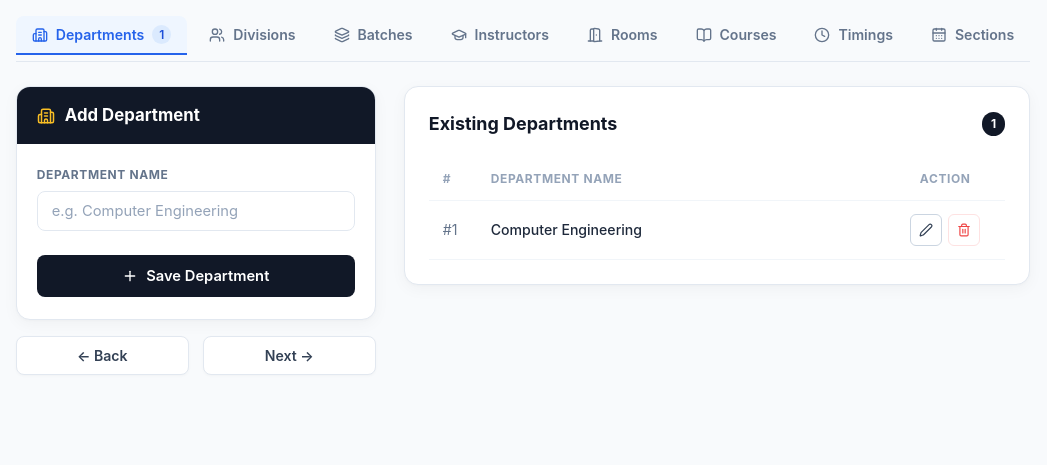
Scenario: DataEntry Component Tests - Layout & Edit Operations › 10. Department: Edit opens, pre-fills existing value, and updates successfully
Expected: the text "Computer Engineering" is shown, [477,200,885,259]
Note: Click Edit button
Click the button named "edit".
click(926, 230)  # box [910,214,942,246]
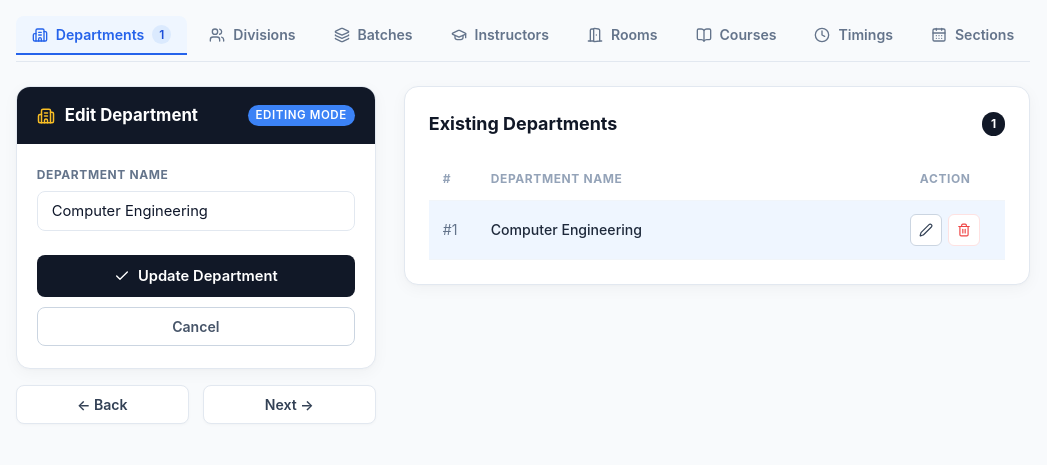
Expected: the heading "Edit Department" is shown, [65,105,198,125]
Expected: the field with placeholder "e.g. Computer Engineering" holds "Computer Engineering"
Note: Change value
Replace the text in the field with placeholder "e.g. Computer Engineering" with "Computer Science & Engineering" at {"x": 196, "y": 211}, box [37,191,355,231]
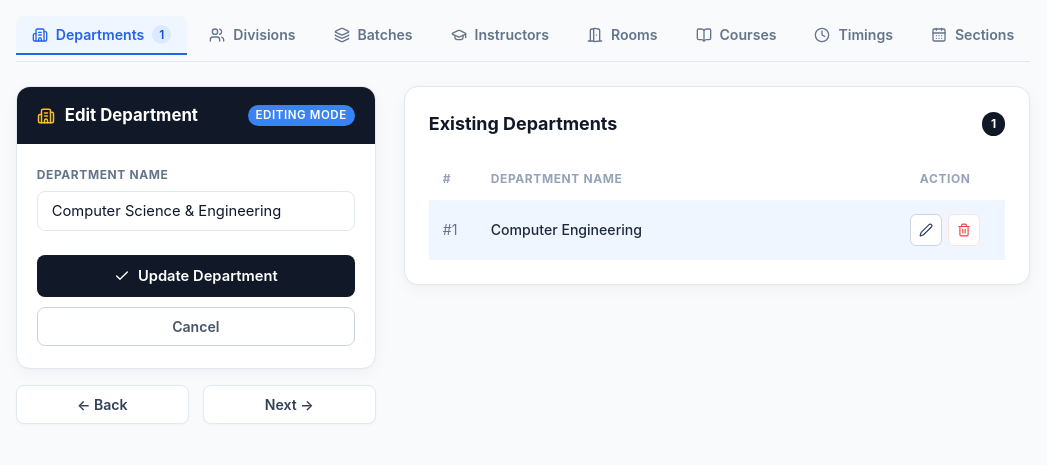
Note: Submit update
Click the button "Update Department".
click(196, 276)  # box [37,255,355,297]
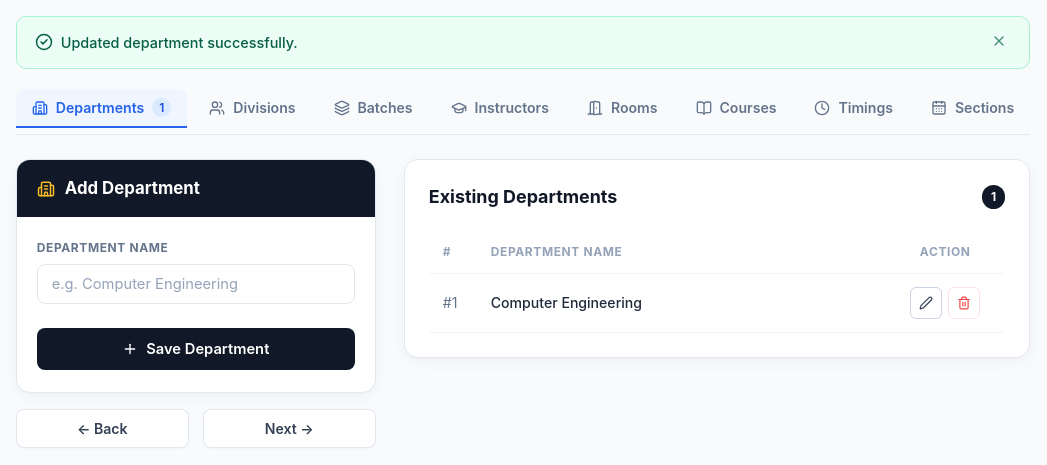
Expected: the text "Updated department successfully." is shown, [61,32,298,53]
